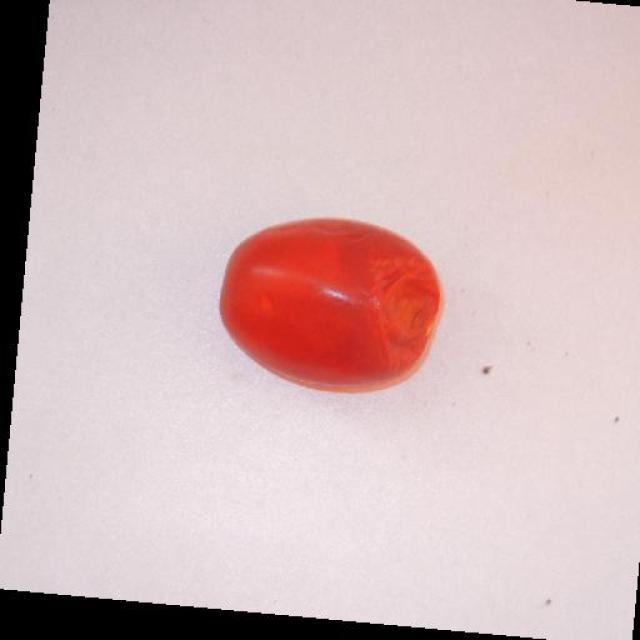Stale_tomato: (227, 215, 448, 393)
